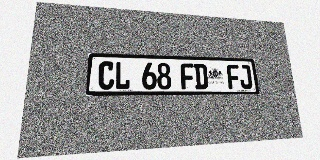6: (142, 62, 157, 89)
8: (157, 63, 171, 89)
C: (98, 61, 115, 90)
D: (194, 64, 208, 89)
F: (180, 63, 195, 89), (226, 64, 241, 89)
J: (238, 65, 253, 89)
L: (114, 62, 130, 90)
